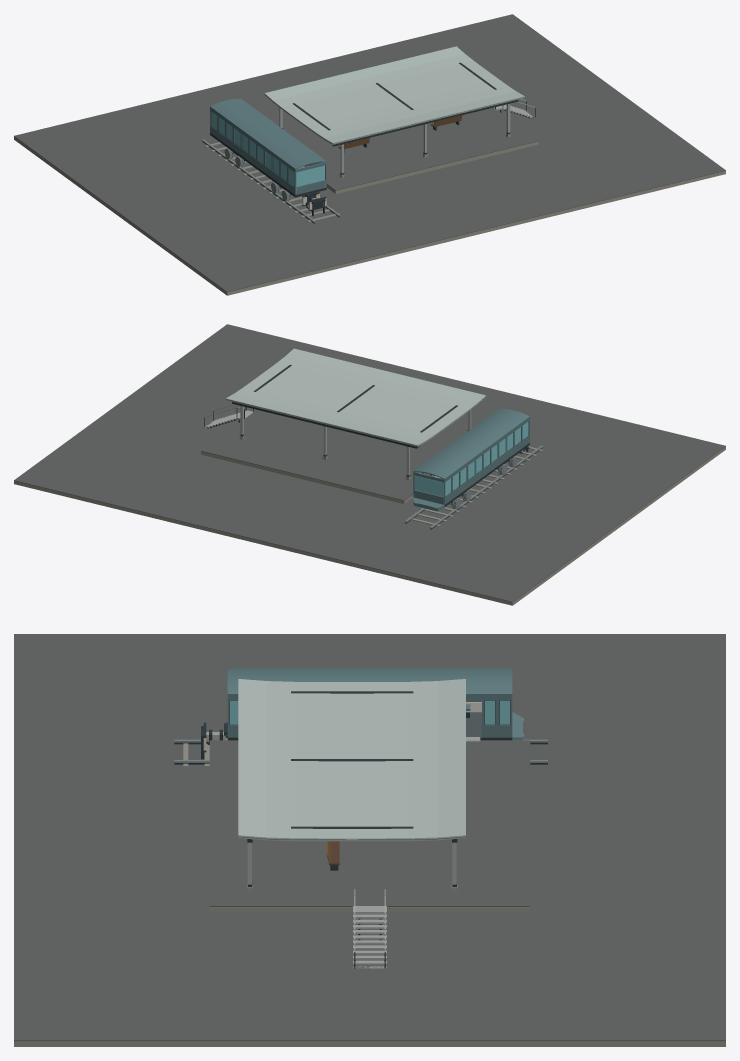
3 views of the same model, one above another, from view 1: azimuth 30°, elevation 25°; view 2: azimuth 150°, elevation 25°; view 3: azimuth 270°, elevation 25° (orthographic). The views are drawn at different scales.
Parts seen in each view (by area): view 1: 石铺面与混凝土承板 (×2), 连续薄檐、独立防水膜与实际承梁, 独立乘舱壳、真实窗封和常开侧舱口, 对应模式导轨与明确机械止挡; view 2: 石铺面与混凝土承板 (×2), 连续薄檐、独立防水膜与实际承梁, 独立乘舱壳、真实窗封和常开侧舱口, 对应模式导轨与明确机械止挡; view 3: 石铺面与混凝土承板 (×2), 连续薄檐、独立防水膜与实际承梁, 独立乘舱壳、真实窗封和常开侧舱口, 可登离实体踏步与连续金属梯梁, 对应模式导轨与明确机械止挡.
Boxes of the visible parts, box(x1,y1,x2,y2) form: 石铺面与混凝土承板 (×2): box(14, 14, 725, 295); 连续薄檐、独立防水膜与实际承梁: box(264, 46, 524, 146); 独立乘舱壳、真实窗封和常开侧舱口: box(210, 98, 326, 197); 对应模式导轨与明确机械止挡: box(201, 139, 340, 223); 石铺面与混凝土承板 (×2): box(14, 324, 725, 605); 连续薄檐、独立防水膜与实际承梁: box(225, 348, 485, 448); 独立乘舱壳、真实窗封和常开侧舱口: box(413, 408, 529, 506); 对应模式导轨与明确机械止挡: box(405, 445, 543, 529); 石铺面与混凝土承板 (×2): box(14, 634, 725, 1046); 连续薄檐、独立防水膜与实际承梁: box(238, 679, 465, 842); 独立乘舱壳、真实窗封和常开侧舱口: box(227, 668, 512, 740); 可登离实体踏步与连续金属梯梁: box(353, 889, 386, 968); 对应模式导轨与明确机械止挡: box(174, 739, 547, 767).
Size of the model in its own units: 54 by 6.35 by 40.
Materials: 23 (23 with a texture image).
